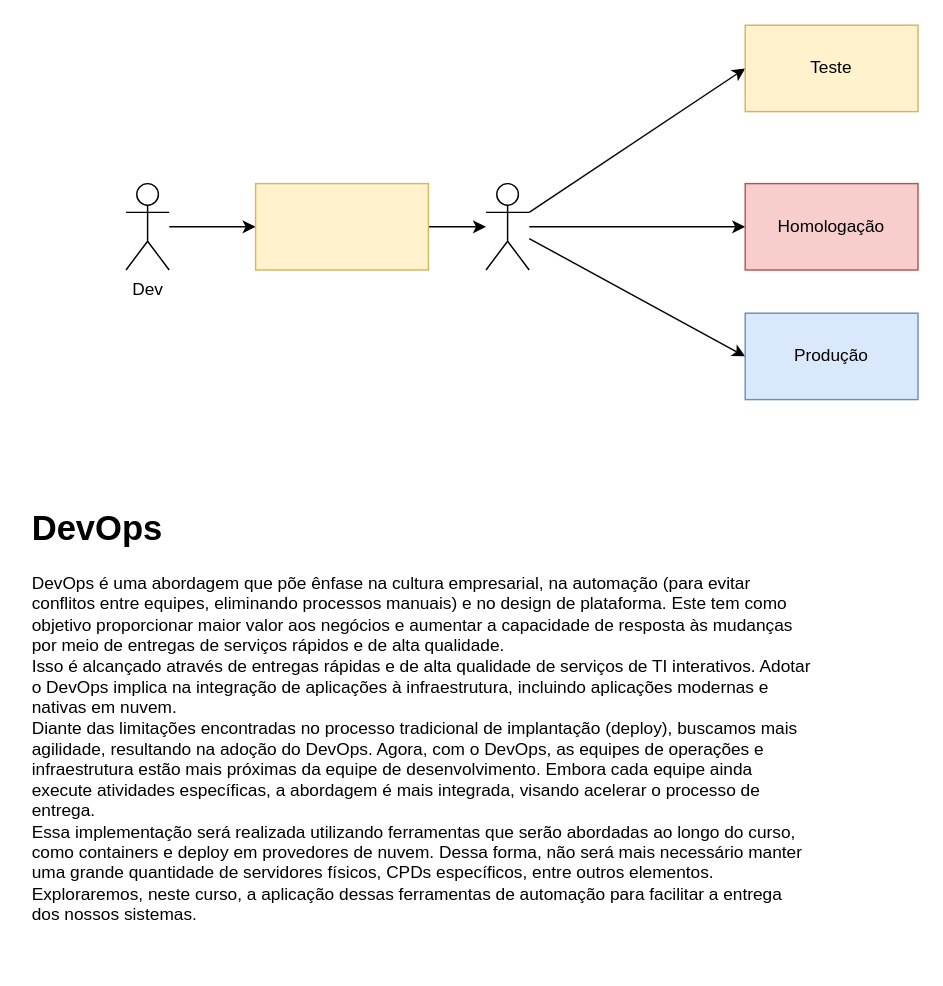
This 943x986 diagram has some shape labels left out. The centre of each missing label's shape, as x and y in pixels:
"Entregavel" goes at (341,226).
"Infra" goes at (507,226).
